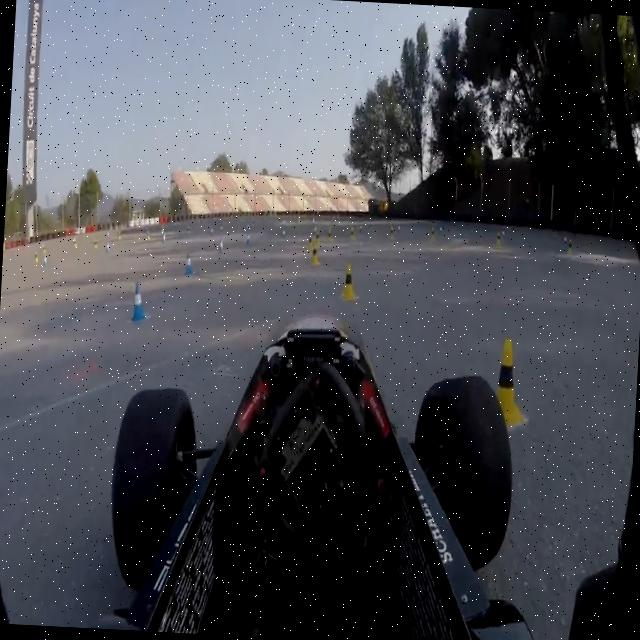blue_cone: (130, 281, 148, 324), (183, 252, 194, 276), (218, 238, 224, 258), (245, 230, 251, 248)
yellow_cone: (490, 338, 524, 431), (341, 264, 358, 301), (310, 242, 320, 266), (494, 230, 502, 250), (566, 238, 574, 258), (307, 231, 314, 253), (348, 225, 356, 242), (388, 224, 395, 242), (314, 228, 320, 248), (326, 226, 333, 243), (430, 227, 436, 244)
